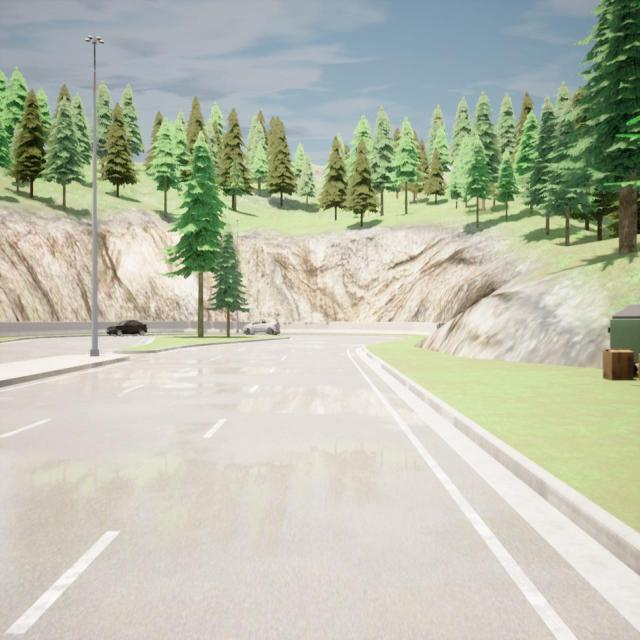Vehicle: (106, 319, 148, 336), (242, 318, 280, 336)
